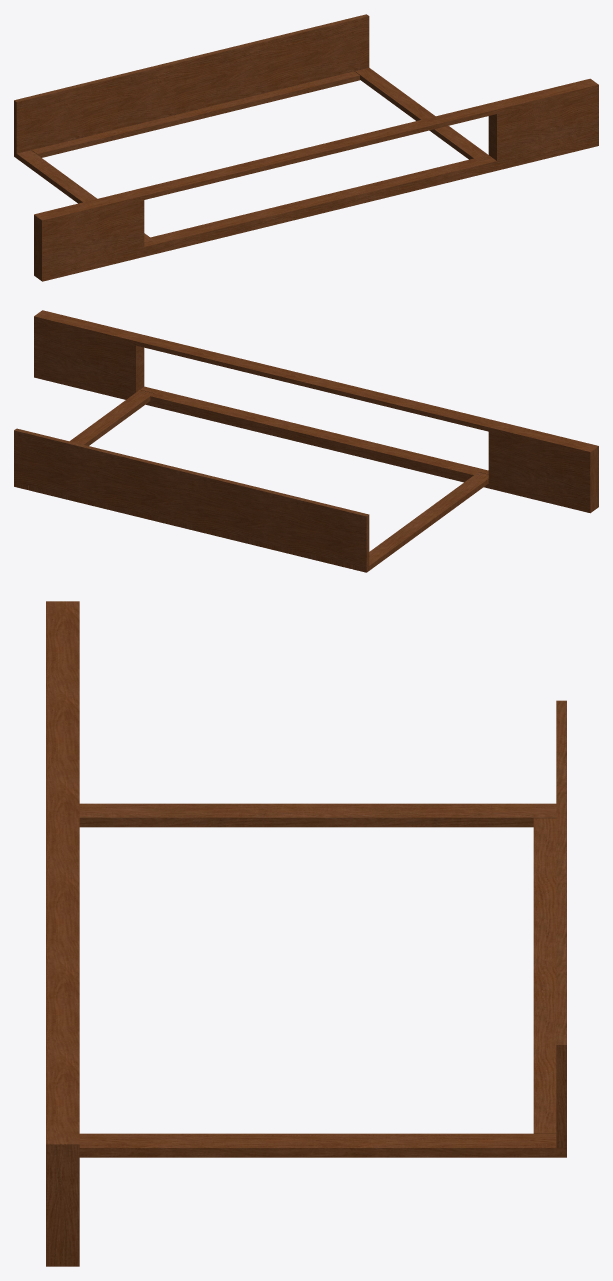
The model's file is original-43.obj.
The picture shows the model from 3 angles, top to bottom: view 1: azimuth 30°, elevation 25°; view 2: azimuth 150°, elevation 25°; view 3: azimuth 270°, elevation 25°; orthographic projection. The views are drawn at different scales.
Parts seen in each view (by area): view 1: mesh32/mesh32-geometry#mesh32-geometry; view 2: mesh32/mesh32-geometry#mesh32-geometry; view 3: mesh32/mesh32-geometry#mesh32-geometry.
Boxes of the visible parts, box(x1,y1,x2,y2) form: mesh32/mesh32-geometry#mesh32-geometry: box(14, 14, 598, 281); mesh32/mesh32-geometry#mesh32-geometry: box(14, 310, 598, 572); mesh32/mesh32-geometry#mesh32-geometry: box(46, 601, 566, 1266).
Bounding box in the file's own units: 1.26 × 0.1318 × 0.509.
Materials: 3 (1 with a texture image).
